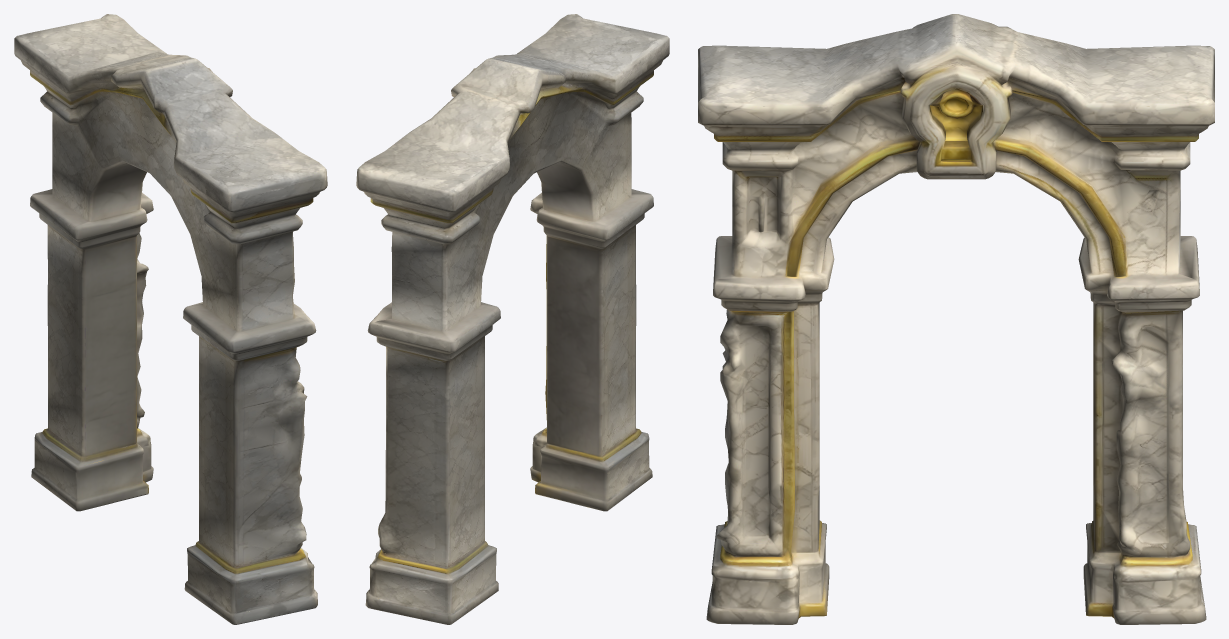
3 renders of one model, left to right at view 1: azimuth 30°, elevation 25°; view 2: azimuth 150°, elevation 25°; view 3: azimuth 270°, elevation 25°, orthographic. The views are drawn at different scales.
Visible parts, largest first — view 1: tripo_node_f3e1627f-82a9-4b54-b118-a7597943884d; view 2: tripo_node_f3e1627f-82a9-4b54-b118-a7597943884d; view 3: tripo_node_f3e1627f-82a9-4b54-b118-a7597943884d.
Boxes of the visible parts, <box> form: tripo_node_f3e1627f-82a9-4b54-b118-a7597943884d: <box>14,14,327,624</box>; tripo_node_f3e1627f-82a9-4b54-b118-a7597943884d: <box>356,14,669,624</box>; tripo_node_f3e1627f-82a9-4b54-b118-a7597943884d: <box>698,14,1214,624</box>.
Size of the model in its own units: 0.2231 by 1 by 0.8239.
Materials: 1 (1 with a texture image).
